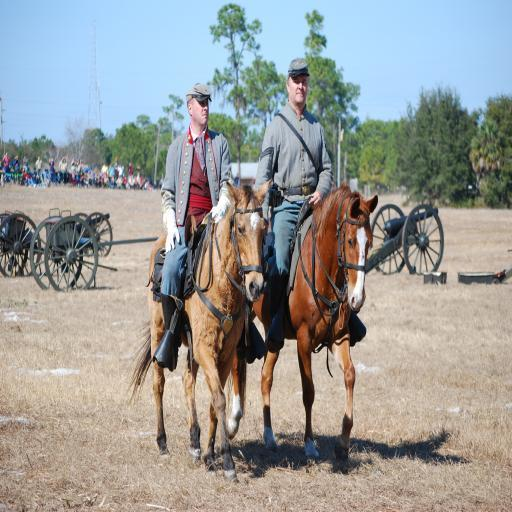horse: (128, 180, 272, 486), (226, 180, 380, 464)
